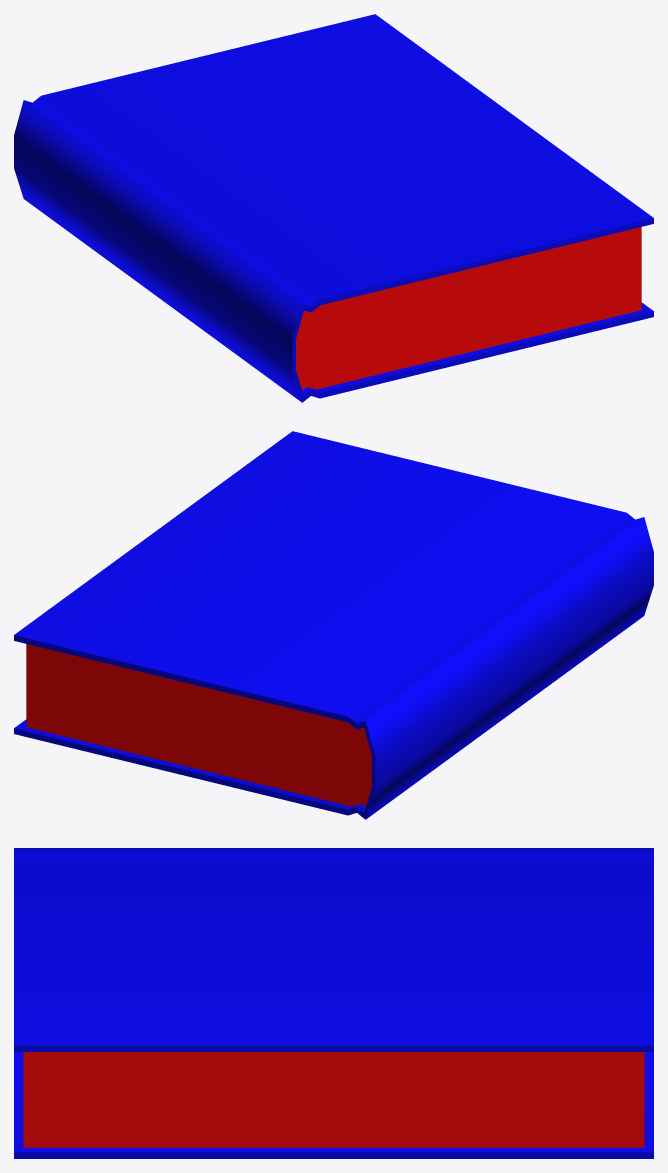
Rendered from Her_Book4_ZW.fbx.
3 renders of one model, top to bottom at view 1: azimuth 30°, elevation 25°; view 2: azimuth 150°, elevation 25°; view 3: azimuth 270°, elevation 25°, orthographic. The views are drawn at different scales.
Parts seen in each view (by area): view 1: Box001; view 2: Box001; view 3: Box001.
Part boxes in pixels (x1,y1,x2,y2): Box001: [14, 14, 653, 402]; Box001: [14, 431, 653, 819]; Box001: [14, 848, 653, 1158].
Size of the model in its own units: 2.71 by 0.708 by 3.61.
